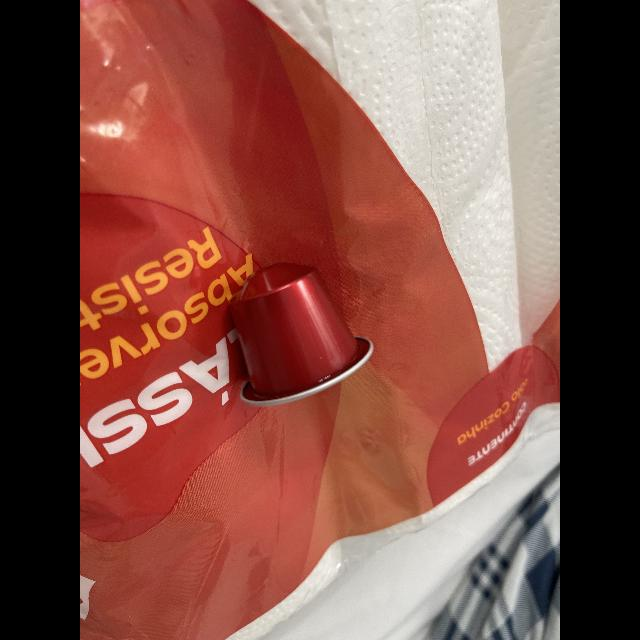intact_capsule: (220, 255, 384, 419)
